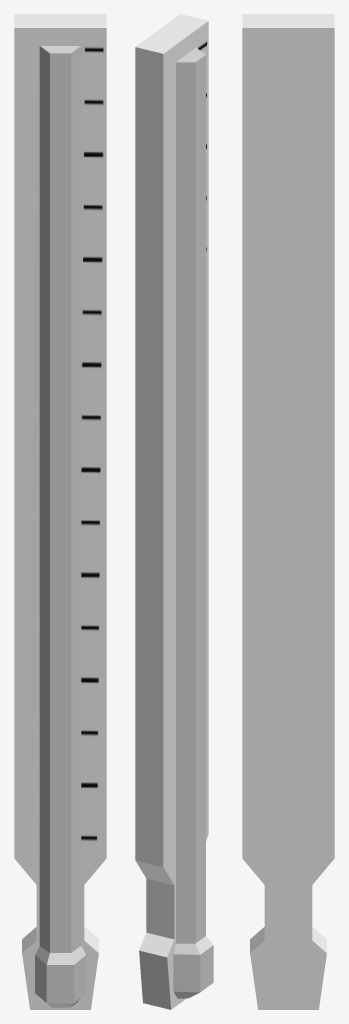
File: ThermometroV2.fbx
The picture shows the model from 3 angles, left to right: view 1: azimuth 90°, elevation 25°; view 2: azimuth 150°, elevation 25°; view 3: azimuth 270°, elevation 25°; orthographic projection. The views are drawn at different scales.
Visible parts, largest first — view 1: Cube, Cylinder; view 2: Cube, Cylinder; view 3: Cube.
Boxes of the visible parts, left/top/right/bottom form: Cube: left=14, top=14, right=106, bottom=1009; Cylinder: left=35, top=46, right=85, bottom=1007; Cube: left=135, top=14, right=208, bottom=1009; Cylinder: left=173, top=47, right=213, bottom=998; Cube: left=242, top=14, right=334, bottom=1009.
Bounding box in the file's own units: 24.16 × 453 × 38.53.
Materials: 1 (1 with a texture image).
